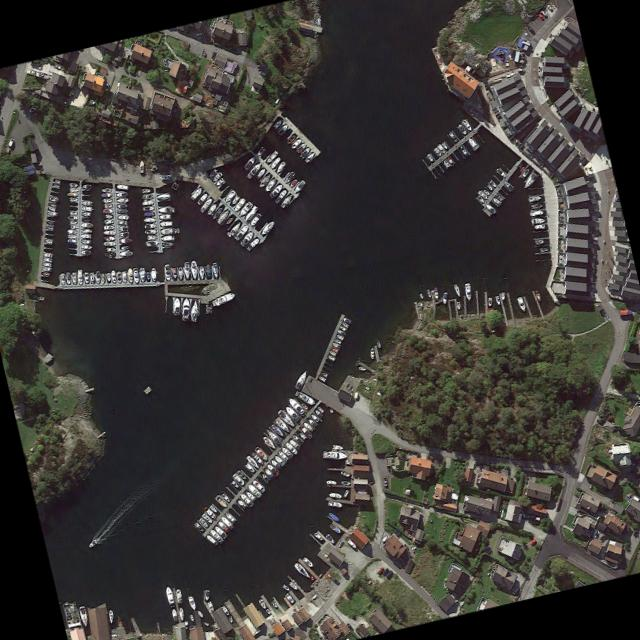large-vehicle: (8, 137, 14, 146)
ship: (276, 408, 296, 429), (287, 396, 307, 417), (293, 367, 310, 391), (272, 414, 292, 434), (293, 389, 315, 407), (292, 560, 311, 580), (264, 425, 282, 446), (214, 290, 236, 306), (283, 404, 301, 423), (522, 170, 539, 190), (163, 583, 176, 607), (269, 421, 286, 439), (246, 482, 263, 500), (260, 434, 277, 451), (323, 449, 347, 461), (244, 453, 260, 471), (246, 162, 262, 180), (77, 604, 90, 626), (252, 445, 268, 462), (219, 514, 235, 531), (239, 491, 255, 508), (251, 477, 267, 494), (244, 204, 259, 222), (233, 224, 248, 242), (269, 182, 284, 199), (264, 148, 279, 165), (249, 449, 264, 466), (238, 200, 253, 217), (260, 219, 275, 236), (279, 192, 294, 208), (213, 493, 228, 509), (231, 471, 246, 487), (216, 208, 231, 224), (185, 593, 199, 610), (240, 230, 254, 247), (189, 299, 199, 322), (209, 528, 224, 543), (283, 440, 298, 455), (265, 462, 280, 477), (202, 505, 217, 520), (213, 524, 228, 539), (223, 510, 238, 525), (199, 197, 213, 213), (293, 178, 307, 193), (280, 445, 294, 460), (291, 432, 305, 447), (216, 519, 230, 534), (274, 159, 287, 175), (258, 172, 271, 188), (269, 457, 283, 471), (287, 437, 301, 451), (300, 426, 314, 440), (200, 511, 214, 525), (262, 466, 276, 480), (246, 237, 260, 251), (273, 453, 286, 468), (277, 449, 290, 464), (264, 177, 277, 192), (249, 212, 262, 227), (190, 185, 203, 200), (229, 220, 241, 236), (269, 156, 282, 170), (274, 189, 287, 203), (197, 515, 210, 529), (234, 468, 248, 481), (218, 490, 232, 503), (244, 489, 258, 502), (284, 169, 296, 184), (69, 602, 78, 622), (234, 197, 246, 212), (467, 136, 479, 151), (516, 295, 526, 312), (290, 137, 303, 150), (276, 123, 289, 136), (301, 555, 314, 568), (327, 510, 340, 523), (302, 420, 315, 433), (299, 145, 311, 159), (285, 132, 297, 146), (328, 523, 342, 535), (219, 603, 231, 617), (204, 599, 216, 613), (309, 411, 321, 425), (236, 497, 248, 511), (182, 298, 189, 321), (304, 150, 316, 163), (295, 141, 307, 154), (324, 532, 336, 545), (206, 534, 219, 546), (192, 520, 205, 532), (243, 461, 255, 474), (224, 189, 236, 202), (461, 117, 472, 131), (244, 156, 255, 170), (197, 191, 208, 205), (190, 260, 198, 279), (271, 118, 283, 130), (312, 530, 324, 542), (307, 417, 319, 429), (260, 471, 271, 484), (456, 122, 467, 135), (447, 130, 458, 143), (257, 596, 267, 610), (175, 587, 183, 604), (328, 490, 343, 499), (170, 607, 179, 622), (184, 260, 191, 279), (464, 282, 471, 301), (160, 227, 179, 234), (485, 203, 496, 215), (284, 592, 295, 604), (255, 167, 266, 179), (212, 207, 223, 219), (207, 202, 217, 215), (327, 500, 343, 508), (504, 181, 515, 192), (477, 189, 488, 200), (346, 538, 357, 549), (229, 478, 240, 489), (212, 171, 223, 182), (520, 168, 530, 180), (314, 407, 324, 419), (453, 282, 461, 297), (64, 605, 72, 619), (212, 262, 219, 278), (164, 264, 171, 280), (132, 267, 139, 283), (496, 167, 506, 178), (288, 580, 298, 591), (298, 431, 308, 442), (208, 503, 218, 514), (88, 538, 98, 549), (174, 297, 180, 315), (436, 142, 445, 154), (459, 145, 468, 157), (139, 266, 146, 281), (127, 267, 134, 282), (156, 193, 171, 200), (160, 234, 175, 241), (331, 442, 344, 450), (77, 268, 83, 285), (157, 206, 174, 212), (494, 192, 504, 202), (340, 469, 350, 479), (215, 176, 225, 186), (289, 176, 298, 187), (231, 194, 240, 205), (178, 607, 185, 621), (159, 220, 173, 227), (354, 355, 362, 367), (204, 587, 211, 600), (150, 267, 157, 280), (146, 239, 159, 246), (256, 145, 265, 155), (336, 328, 346, 337), (529, 210, 544, 216), (488, 178, 497, 188), (492, 196, 501, 206), (336, 539, 345, 549), (187, 612, 196, 622), (446, 156, 455, 166), (433, 146, 441, 157), (375, 337, 382, 349), (325, 479, 337, 486), (108, 609, 114, 623), (81, 222, 93, 229), (199, 265, 205, 279), (111, 269, 117, 283), (476, 194, 485, 203), (209, 168, 218, 177), (340, 320, 350, 328), (341, 478, 351, 486), (530, 203, 543, 209), (528, 196, 541, 202), (81, 206, 94, 212), (81, 200, 94, 206), (95, 270, 101, 283), (116, 270, 122, 283), (442, 291, 448, 304), (115, 191, 128, 197), (534, 290, 541, 301), (343, 487, 350, 498), (81, 232, 92, 239), (531, 218, 546, 223), (343, 316, 352, 324), (336, 333, 345, 341), (320, 370, 329, 378), (300, 401, 308, 410), (327, 353, 336, 361), (328, 349, 337, 357), (330, 345, 339, 353), (332, 341, 341, 349), (481, 188, 490, 196), (380, 534, 388, 543), (196, 609, 204, 618), (270, 599, 278, 608), (80, 243, 92, 249), (84, 271, 90, 283), (122, 270, 128, 282), (103, 235, 115, 241), (116, 184, 128, 190), (159, 174, 171, 180), (48, 210, 58, 217), (206, 263, 211, 277), (72, 271, 77, 285), (426, 152, 433, 162), (534, 223, 545, 229), (81, 238, 92, 244), (41, 266, 52, 272), (81, 227, 92, 233), (81, 211, 92, 217), (142, 194, 153, 200), (147, 234, 158, 240), (370, 346, 375, 359), (102, 230, 115, 235), (178, 266, 183, 279), (60, 272, 65, 285), (66, 271, 71, 284), (115, 197, 128, 202), (118, 238, 131, 243), (159, 214, 172, 219), (162, 241, 175, 246), (144, 229, 157, 234), (318, 375, 326, 383), (282, 583, 290, 591), (339, 325, 348, 332), (49, 196, 58, 203), (226, 216, 233, 225), (443, 159, 450, 168), (357, 365, 367, 371), (350, 474, 360, 480), (66, 229, 78, 234), (67, 233, 77, 239), (101, 198, 113, 203), (43, 261, 53, 267), (43, 257, 53, 263), (43, 252, 53, 258), (171, 267, 177, 277), (206, 304, 212, 314), (90, 271, 95, 283), (100, 272, 105, 284), (103, 241, 115, 246), (117, 215, 129, 220), (139, 160, 144, 172), (143, 206, 155, 211), (118, 231, 130, 236), (120, 251, 132, 256), (144, 223, 156, 228), (334, 337, 342, 344), (103, 219, 114, 224), (118, 226, 129, 231), (105, 252, 116, 257), (140, 188, 151, 193), (82, 216, 91, 222), (143, 218, 156, 222), (495, 295, 500, 305), (82, 184, 92, 189), (69, 187, 79, 192), (68, 215, 78, 220), (103, 208, 113, 213), (103, 203, 113, 208), (117, 203, 127, 208), (317, 406, 324, 413), (203, 620, 210, 627), (265, 608, 272, 615), (227, 615, 233, 623), (52, 182, 60, 188), (100, 193, 112, 197), (441, 141, 447, 149), (434, 287, 438, 299), (142, 201, 154, 205), (143, 212, 155, 216), (535, 239, 544, 244), (538, 247, 547, 252), (69, 197, 78, 202), (67, 192, 78, 196), (80, 250, 91, 254), (117, 209, 128, 213), (105, 247, 116, 251), (519, 166, 525, 173), (487, 184, 493, 191), (311, 593, 317, 600), (69, 210, 77, 215), (70, 224, 78, 229), (67, 239, 77, 243), (49, 202, 57, 207), (48, 206, 56, 211), (105, 213, 113, 218), (45, 239, 53, 244), (46, 225, 54, 230), (107, 271, 111, 281), (104, 225, 114, 229), (456, 300, 460, 310), (101, 187, 111, 191), (118, 220, 128, 224), (184, 619, 188, 628), (69, 182, 78, 186), (146, 271, 150, 280), (419, 300, 423, 309), (517, 162, 522, 169), (54, 179, 61, 184), (47, 220, 54, 225), (317, 17, 321, 25), (488, 297, 492, 305), (69, 220, 77, 224), (37, 296, 45, 300), (42, 271, 50, 275), (427, 289, 431, 297), (419, 312, 423, 320), (204, 290, 210, 295), (501, 291, 504, 300), (329, 408, 334, 413), (364, 385, 369, 390), (345, 460, 351, 464), (518, 68, 524, 72), (488, 307, 494, 311), (211, 300, 215, 306), (227, 231, 231, 237), (419, 293, 423, 299), (121, 246, 129, 249), (213, 622, 217, 627), (64, 601, 69, 605), (327, 573, 331, 578)
small-vehicle: (619, 309, 631, 314), (104, 82, 110, 91), (540, 10, 547, 17), (377, 567, 384, 574), (527, 25, 534, 32), (383, 568, 389, 576), (386, 570, 392, 578), (547, 3, 553, 11), (53, 63, 61, 69), (529, 538, 536, 544), (596, 417, 602, 424), (538, 13, 544, 20), (333, 577, 339, 584), (28, 107, 36, 112), (527, 514, 536, 518), (259, 70, 266, 75), (28, 69, 35, 74), (347, 622, 352, 629), (212, 51, 216, 59), (206, 30, 210, 37), (384, 477, 387, 485), (196, 32, 202, 35), (522, 512, 525, 517)
